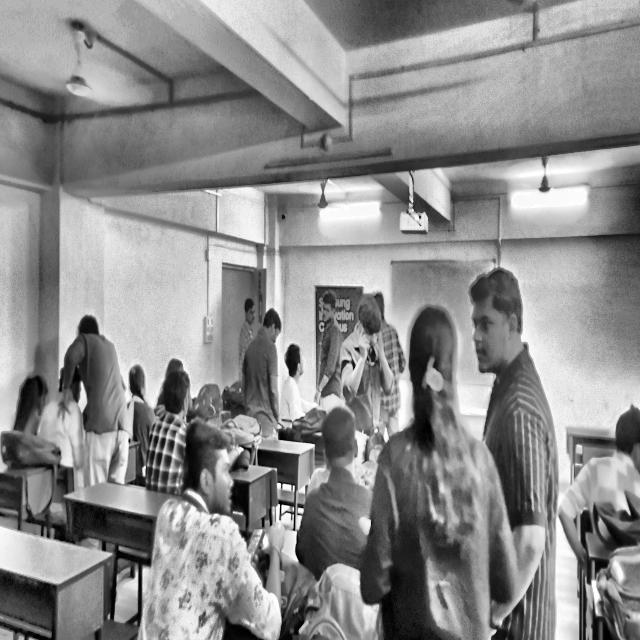Focus: (316, 403, 365, 484), (155, 366, 192, 424), (20, 370, 52, 432), (262, 306, 286, 354), (127, 364, 148, 409)
Not Focus: (462, 262, 534, 397), (178, 416, 241, 528), (355, 298, 389, 364), (282, 338, 306, 394), (316, 290, 340, 333), (241, 293, 258, 331)
